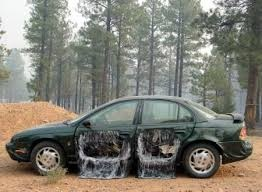Smashed: (74, 128, 189, 179)
